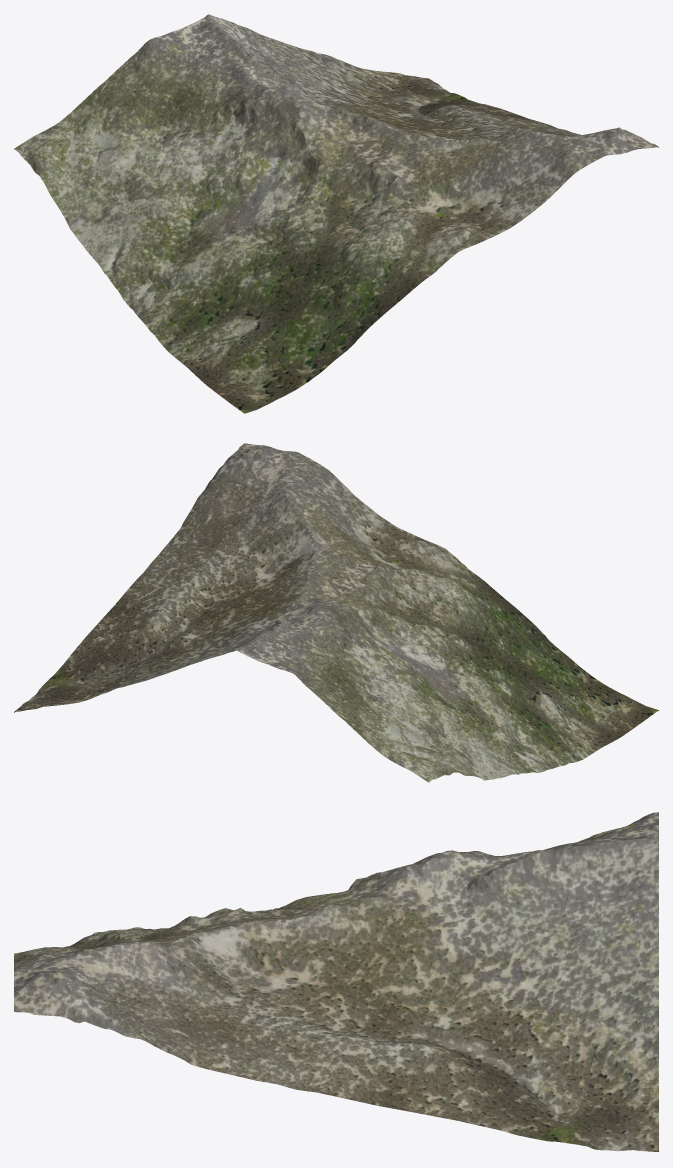
The picture shows the model from 3 angles, top to bottom: view 1: azimuth 30°, elevation 25°; view 2: azimuth 150°, elevation 25°; view 3: azimuth 270°, elevation 25°; orthographic projection. The views are drawn at different scales.
Bounding box in the file's own units: 1000 × 426 × 963.
Materials: 1 (1 with a texture image).
